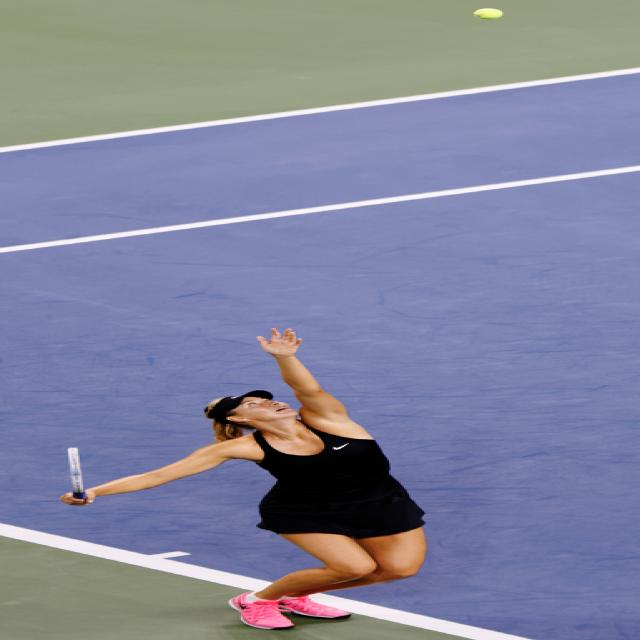Tennis ball: (475, 8, 502, 18)
